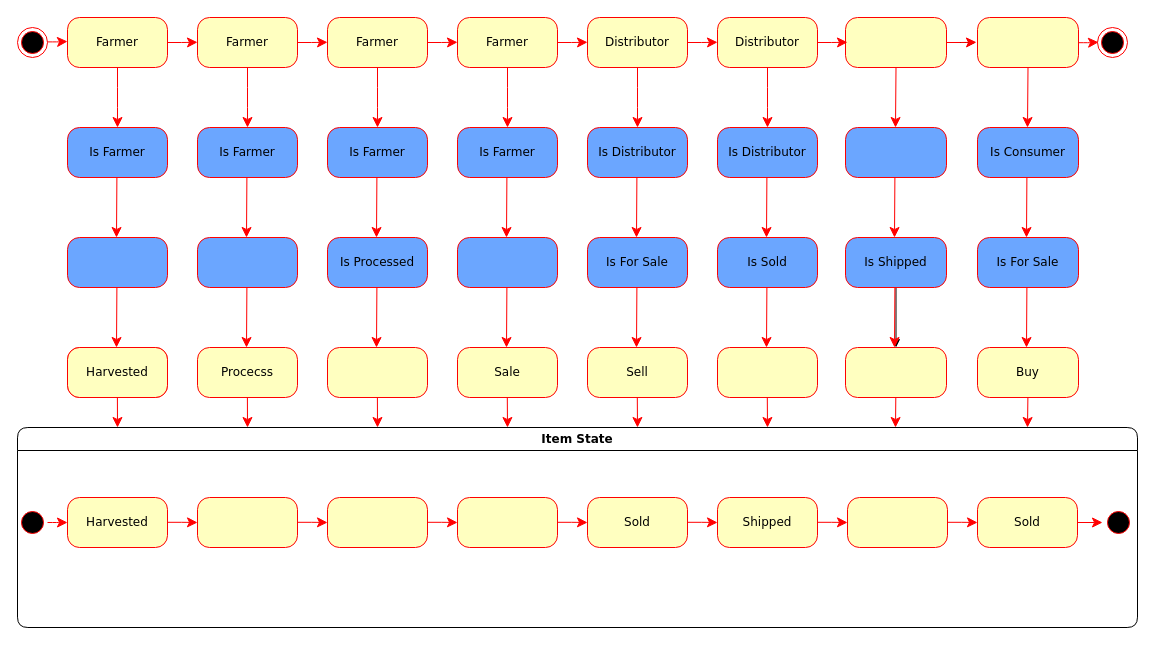
Image size: 1155x645. Some labels were removed from this diagram. The centre of each missing label's shape, as x and y in pixels:
Consumer: (1027,42)
Fop Sale: (507,522)
Is Harvested: (247,262)
Is initial State: (117,262)
Is Packed: (507,262)
Is Retailer: (895,152)
Pack: (377,372)
Packed: (377,522)
Processed: (247,522)
Receive: (895,372)
Received: (897,522)
Retailer: (895,42)
Ship: (767,372)
